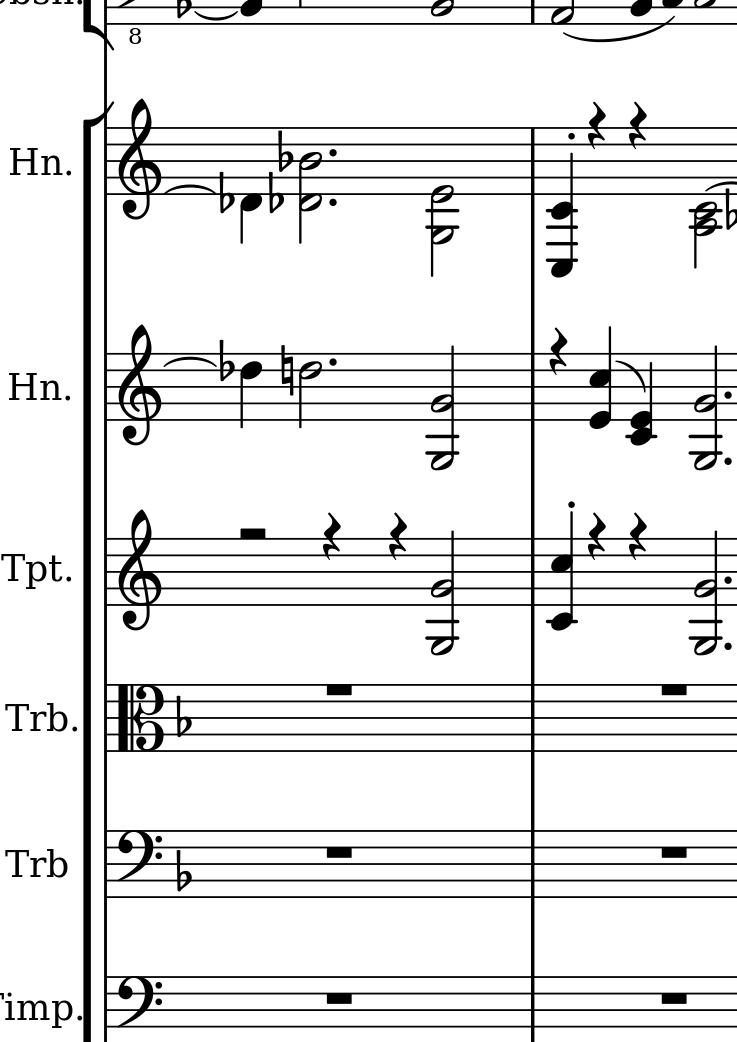2_-1_4: (297, 126, 323, 245)
2_-4_-2: (689, 126, 722, 269)
2_-5_0: (426, 126, 459, 279)
2_-5_2: (427, 345, 460, 471), (425, 530, 458, 656), (688, 529, 721, 655), (689, 344, 722, 470)
2_6: (298, 352, 324, 426)
4_-1: (240, 127, 264, 246)
4_-2_0: (627, 352, 659, 445)
4_-2_5: (546, 511, 580, 631)
4_-9_-2: (547, 126, 580, 279)
4_0_5: (588, 326, 612, 430)
4_6: (238, 350, 267, 430)
Cclef: (115, 683, 166, 754)
Fclef: (116, 829, 165, 901), (115, 973, 165, 1042)
Flat: (173, 695, 196, 740), (174, 848, 195, 895), (266, 169, 285, 215), (275, 128, 294, 173), (215, 172, 234, 216), (721, 185, 737, 231), (219, 339, 233, 383)
Gclef: (118, 323, 165, 448), (117, 96, 163, 222), (119, 510, 163, 634)
Hn: (5, 366, 63, 405), (10, 145, 62, 181)
Natural: (279, 342, 294, 398)
Rests1: (658, 841, 692, 864), (654, 987, 691, 1008), (657, 681, 697, 700), (320, 988, 360, 1007), (320, 680, 357, 699), (323, 843, 358, 862)
Rests2: (236, 523, 271, 544)
Rests4: (626, 100, 651, 149), (386, 512, 410, 562), (320, 512, 344, 561), (585, 512, 607, 565), (627, 513, 649, 561), (587, 101, 607, 151), (549, 329, 570, 376)
Single_barline: (514, 831, 546, 897), (517, 685, 546, 751), (522, 538, 548, 606), (523, 354, 546, 421), (97, 353, 119, 421), (95, 686, 117, 751), (98, 832, 120, 897), (98, 128, 119, 196), (522, 129, 543, 193), (98, 538, 117, 606)
Slur: (614, 359, 646, 393), (162, 357, 217, 369), (164, 185, 216, 195)
Tpt: (1, 547, 64, 590)
Trb: (1, 838, 71, 884), (4, 688, 65, 737)
dot: (324, 352, 343, 372), (720, 570, 736, 591), (325, 143, 341, 162), (721, 385, 736, 405), (721, 388, 737, 406), (325, 193, 342, 209), (325, 146, 341, 159), (326, 195, 339, 208), (721, 640, 734, 653), (723, 574, 735, 588), (722, 455, 734, 468), (326, 356, 338, 368)
